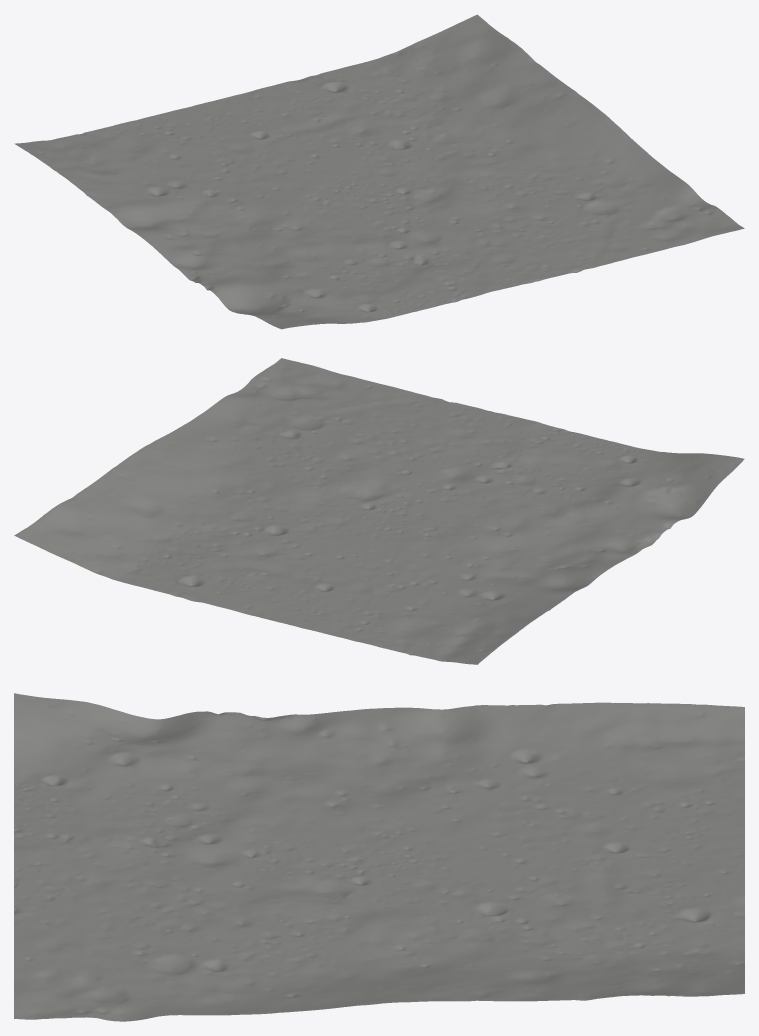
Rendered from malapert-crater-1.glb.
3 renders of one model, top to bottom at view 1: azimuth 30°, elevation 25°; view 2: azimuth 150°, elevation 25°; view 3: azimuth 270°, elevation 25°, orthographic. The views are drawn at different scales.
Parts seen in each view (by area): view 1: Malapert Crater 1 terrain; view 2: Malapert Crater 1 terrain; view 3: Malapert Crater 1 terrain.
Part boxes in pixels (<box>): Malapert Crater 1 terrain: <box>14,14,744,329</box>; Malapert Crater 1 terrain: <box>14,358,744,664</box>; Malapert Crater 1 terrain: <box>14,693,744,1021</box>.
Size of the model in its own units: 19995 by 1120 by 19995.
Materials: 1 (1 with a texture image).
